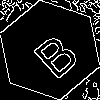B: (25, 25, 82, 81)
